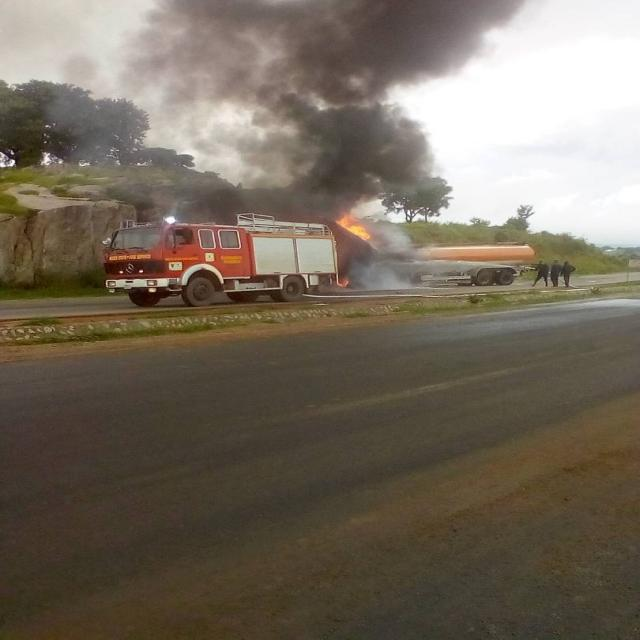Smoke: (190, 7, 400, 169), (337, 212, 369, 242)
